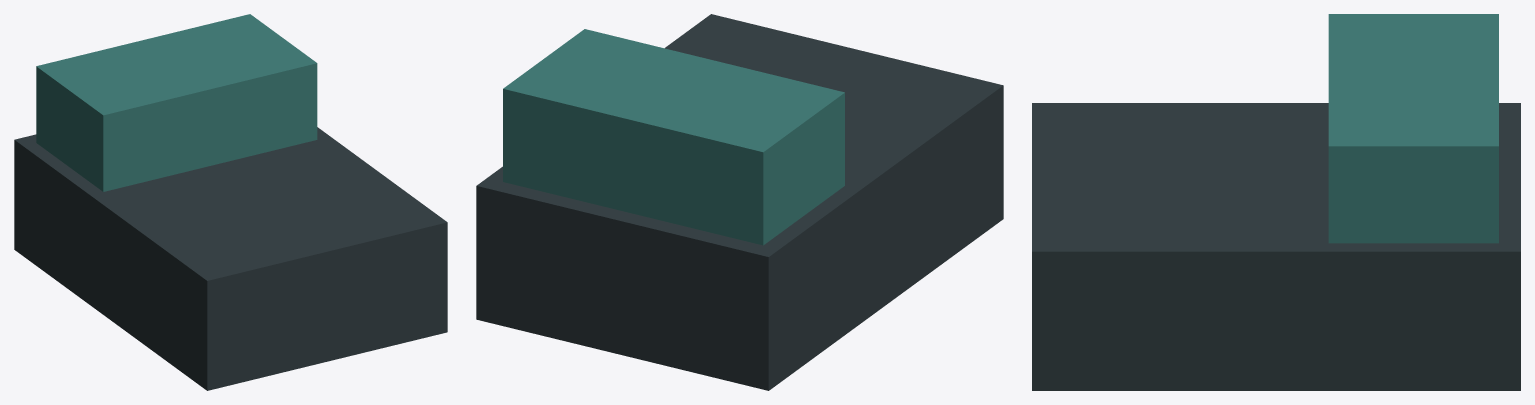
The model's file is pod-lod2.86517e273999.glb.
The picture shows the model from 3 angles, left to right: view 1: azimuth 30°, elevation 25°; view 2: azimuth 150°, elevation 25°; view 3: azimuth 270°, elevation 25°; orthographic projection. The views are drawn at different scales.
Parts seen in each view (by area): view 1: body; view 2: body; view 3: body.
Boxes of the visible parts, x1,y1,x2,y2 form: body: [14, 14, 447, 390]; body: [476, 14, 1003, 390]; body: [1032, 14, 1520, 390].
Bounding box in the file's own units: 0.64 × 0.475 × 0.89.
